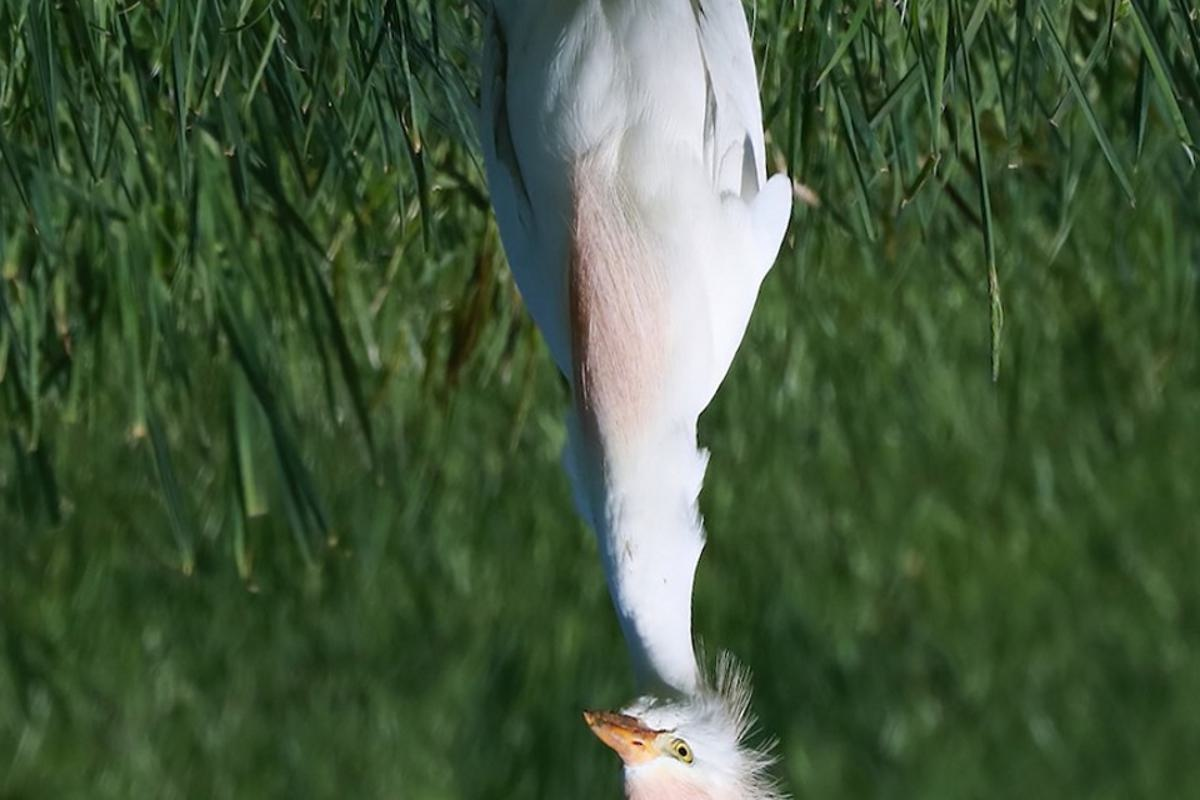egret: (487, 1, 801, 797)
